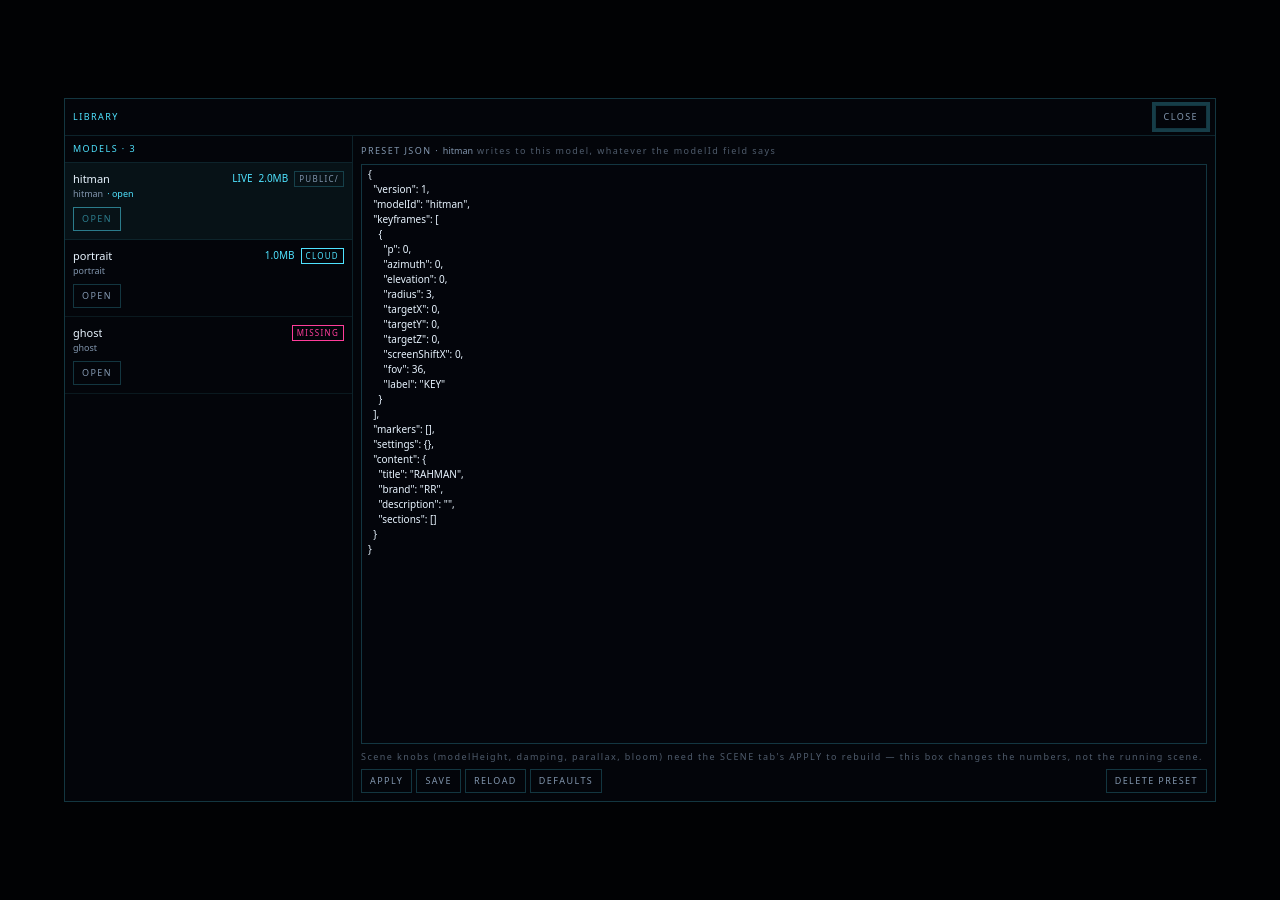
it: StudioLibrary › forgets a delete confirm when another row is selected
Click the button "portrait 1.0MB CLOUD" at (93, 255), box [73,248,344,264]
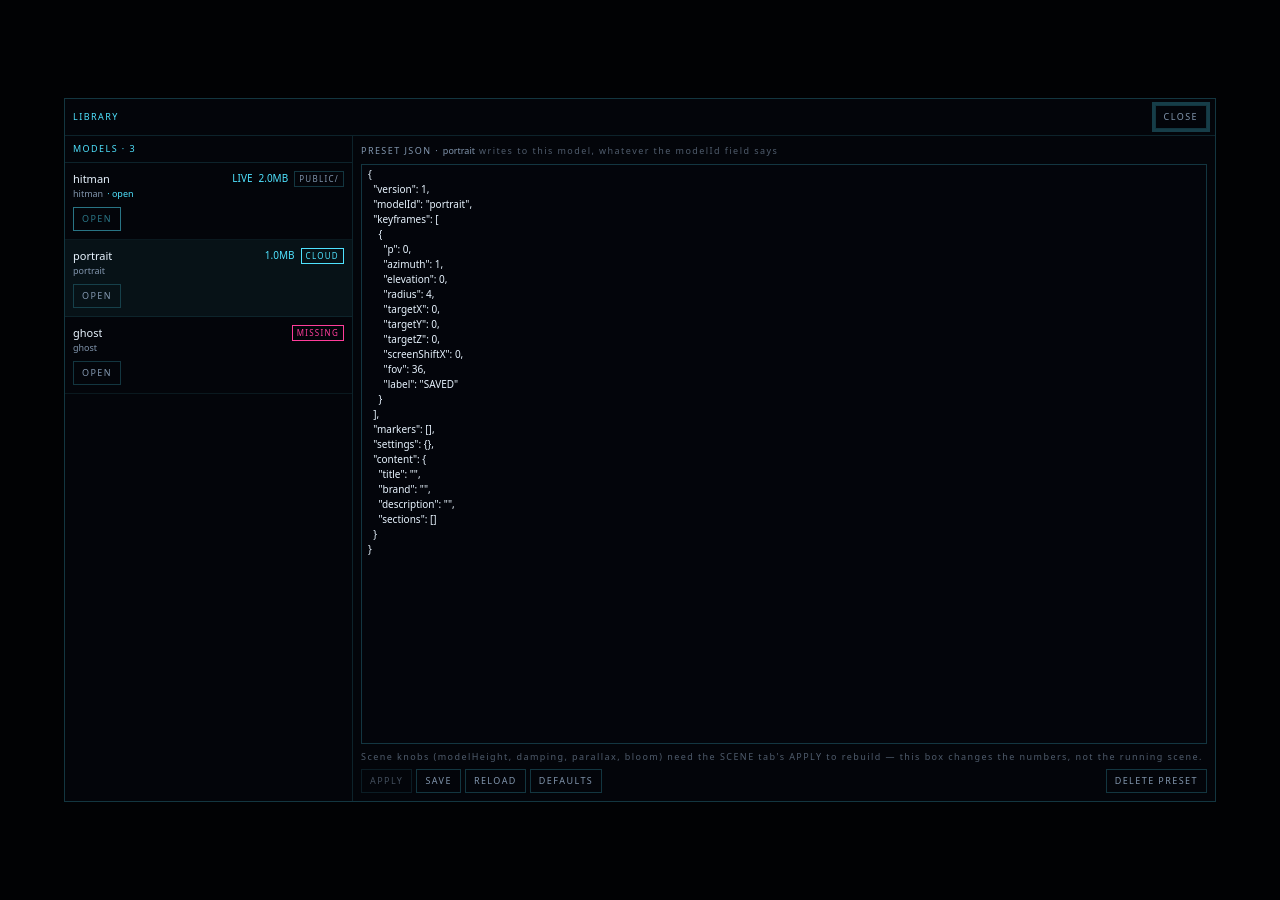
Click the button "DELETE PRESET" at (1156, 781), box [1106,769,1207,793]
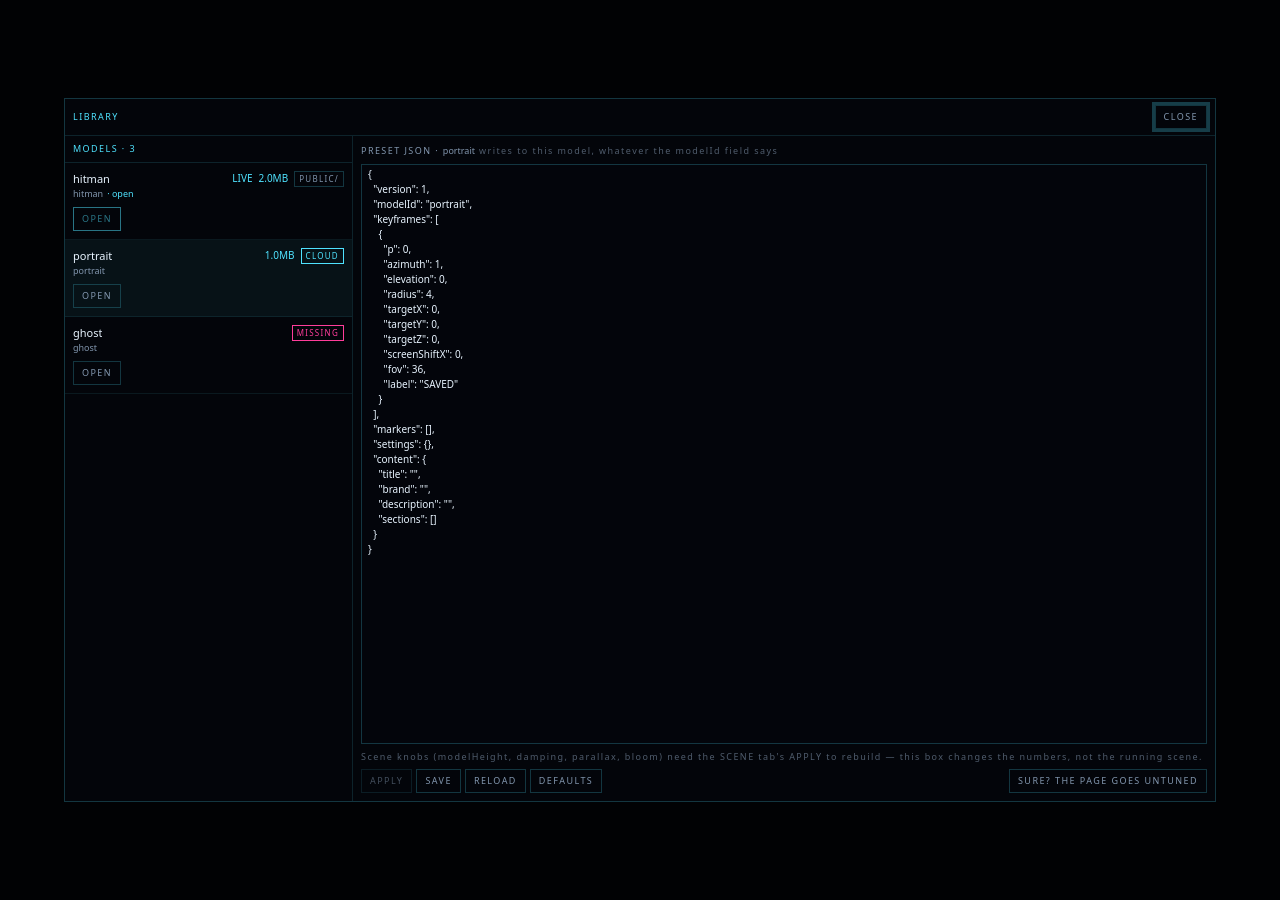
Now the button "SURE? THE PAGE GOES UNTUNED" is shown, box [1009,769,1207,793]
Click the button "ghost MISSING" at (318, 333), box [73,324,344,341]
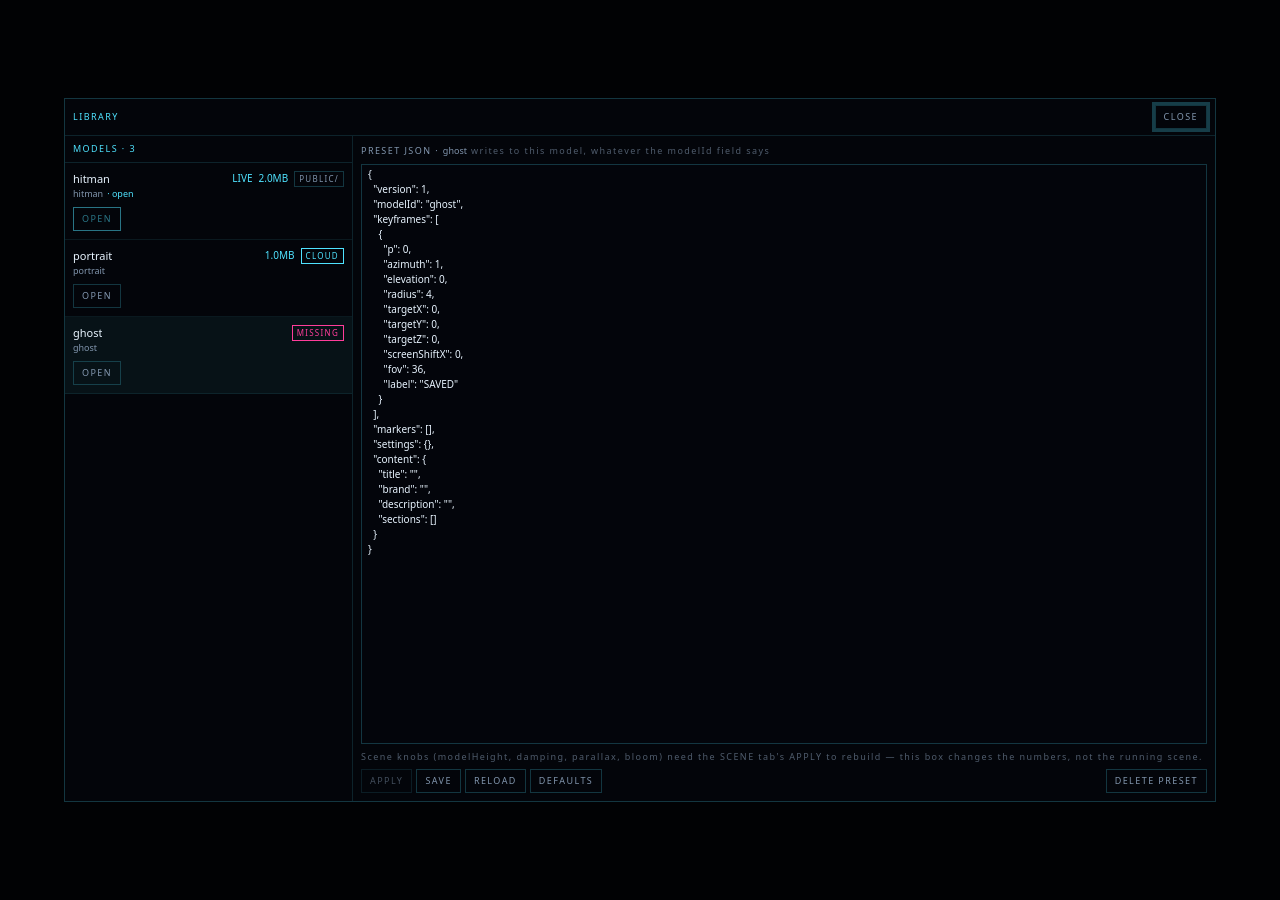
Now the button "DELETE PRESET" is shown, box [1106,769,1207,793]
